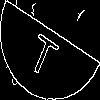T: (25, 24, 64, 80)
